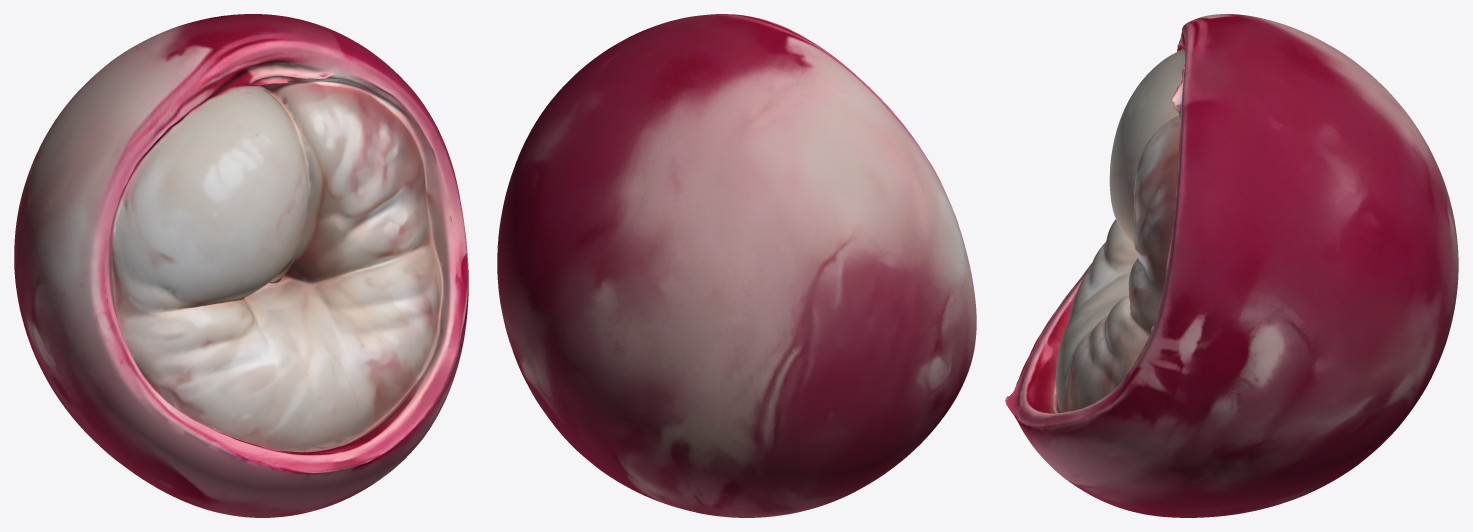
Rendered from bloat-rumen.glb.
The picture shows the model from 3 angles, left to right: view 1: azimuth 30°, elevation 25°; view 2: azimuth 150°, elevation 25°; view 3: azimuth 270°, elevation 25°; orthographic projection. The views are drawn at different scales.
Visible parts, largest first — view 1: model; view 2: model; view 3: model.
Boxes of the visible parts, x1=… form: model: x1=14, y1=14, x2=468, y2=517; model: x1=497, y1=14, x2=976, y2=517; model: x1=1005, y1=14, x2=1458, y2=517.
Size of the model in its own units: 1.77 by 1.9 by 1.68.
1 material, 1 textured.
